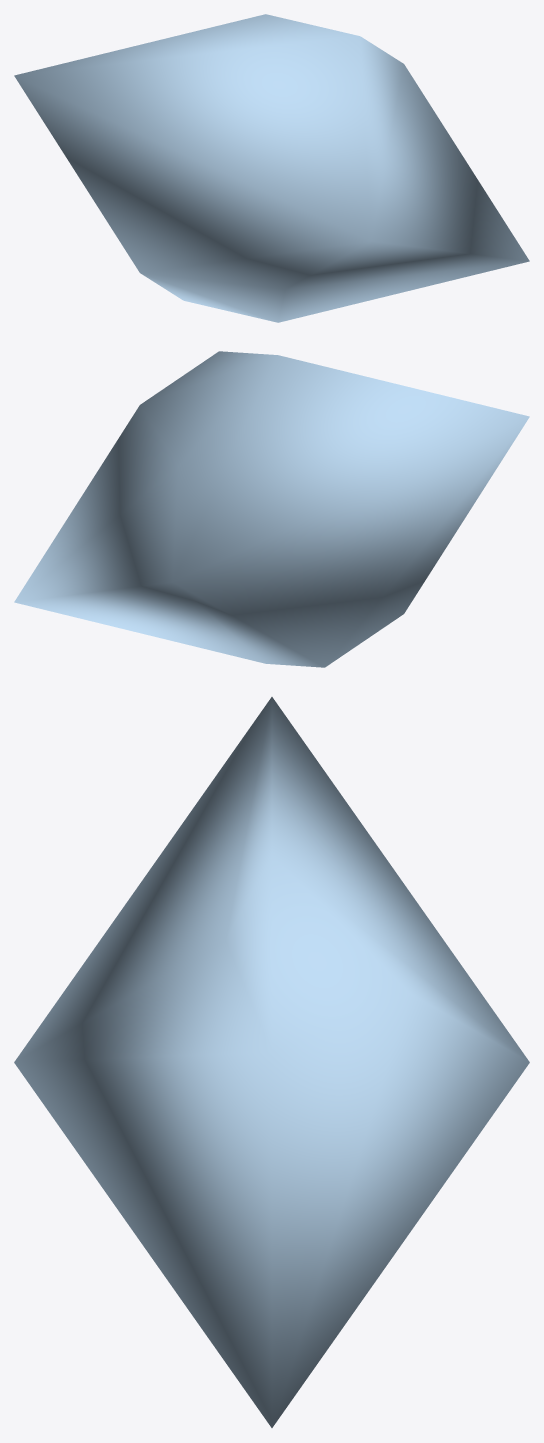
File: calcite-nailhead.glb
The picture shows the model from 3 angles, top to bottom: view 1: azimuth 30°, elevation 25°; view 2: azimuth 150°, elevation 25°; view 3: azimuth 270°, elevation 25°; orthographic projection. The views are drawn at different scales.
Parts seen in each view (by area): view 1: calcite-nailhead; view 2: calcite-nailhead; view 3: calcite-nailhead.
Boxes of the visible parts, x1,y1,x2,y2 form: calcite-nailhead: [14, 14, 529, 322]; calcite-nailhead: [14, 351, 529, 667]; calcite-nailhead: [14, 697, 529, 1427].
Bounding box in the file's own units: 1.83 × 1.06 × 1.22.
